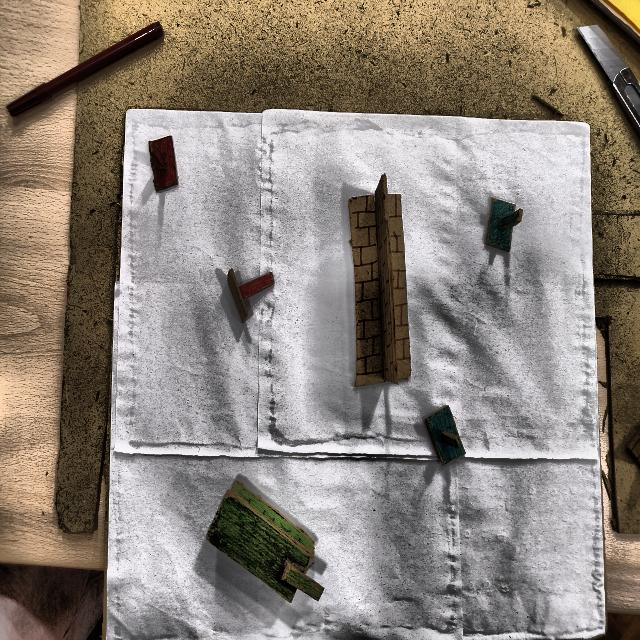Dead soldier -enemy-: (225, 265, 279, 333)
Tank: (205, 478, 324, 604)
Wall: (347, 176, 414, 391)
enemy: (146, 135, 183, 197)
friend: (422, 407, 467, 473), (484, 196, 526, 256)
